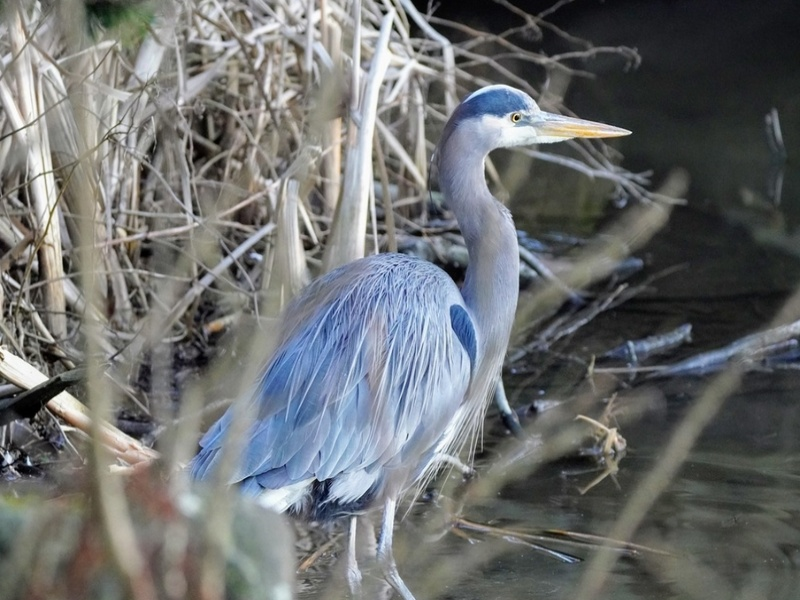heron: (191, 80, 636, 570)
